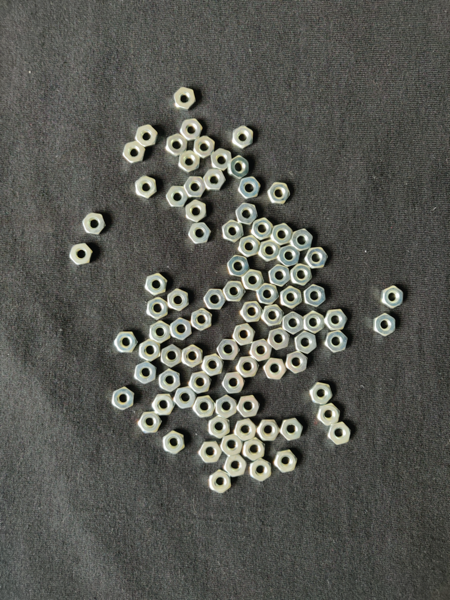nut: (274, 450, 298, 474), (209, 469, 232, 494), (163, 430, 186, 455), (224, 455, 248, 478), (138, 412, 162, 435), (280, 418, 303, 442), (373, 313, 396, 337), (381, 286, 405, 309), (189, 371, 212, 395), (188, 222, 212, 245), (82, 213, 107, 235), (199, 441, 222, 464), (328, 423, 351, 446), (317, 403, 340, 426), (134, 362, 157, 385), (267, 328, 290, 351), (227, 255, 250, 278), (271, 223, 294, 246), (268, 182, 291, 205), (166, 186, 189, 209), (123, 141, 146, 164), (135, 125, 158, 148), (250, 458, 272, 482), (112, 387, 134, 411), (236, 356, 260, 378), (135, 176, 157, 200), (174, 87, 196, 111), (243, 438, 265, 461), (310, 383, 333, 405), (235, 419, 257, 442), (237, 396, 260, 418), (193, 396, 216, 418), (174, 387, 197, 409), (222, 372, 245, 394), (325, 331, 348, 353), (325, 309, 348, 331), (286, 351, 308, 374), (264, 358, 287, 380), (202, 354, 224, 377), (139, 339, 161, 362), (295, 331, 317, 354), (250, 339, 272, 362), (217, 339, 240, 361), (233, 324, 256, 346), (262, 305, 285, 327), (241, 301, 264, 323), (304, 285, 326, 308), (146, 298, 169, 320), (167, 289, 189, 312), (145, 273, 167, 296), (242, 269, 264, 292), (290, 264, 313, 286), (305, 247, 328, 269), (252, 218, 274, 241), (239, 177, 262, 199), (203, 169, 226, 191), (166, 134, 188, 157), (180, 119, 203, 141), (209, 415, 230, 439), (216, 395, 237, 419), (152, 395, 176, 416), (159, 369, 180, 393), (161, 344, 182, 368), (114, 332, 138, 353), (171, 317, 192, 341), (281, 286, 302, 310), (203, 289, 227, 310), (228, 155, 249, 179), (221, 435, 243, 457), (149, 321, 171, 343), (257, 284, 279, 306), (269, 265, 291, 287), (259, 240, 281, 262), (239, 236, 261, 258), (236, 203, 258, 225), (182, 345, 203, 368), (304, 311, 325, 334), (283, 312, 304, 335), (192, 308, 213, 331), (70, 244, 93, 265), (223, 281, 246, 302), (278, 246, 301, 267), (291, 230, 314, 251), (223, 220, 244, 243), (186, 200, 207, 223), (211, 148, 232, 171), (179, 151, 200, 174), (194, 136, 215, 159), (233, 126, 254, 149), (258, 420, 280, 441), (184, 177, 206, 198)
